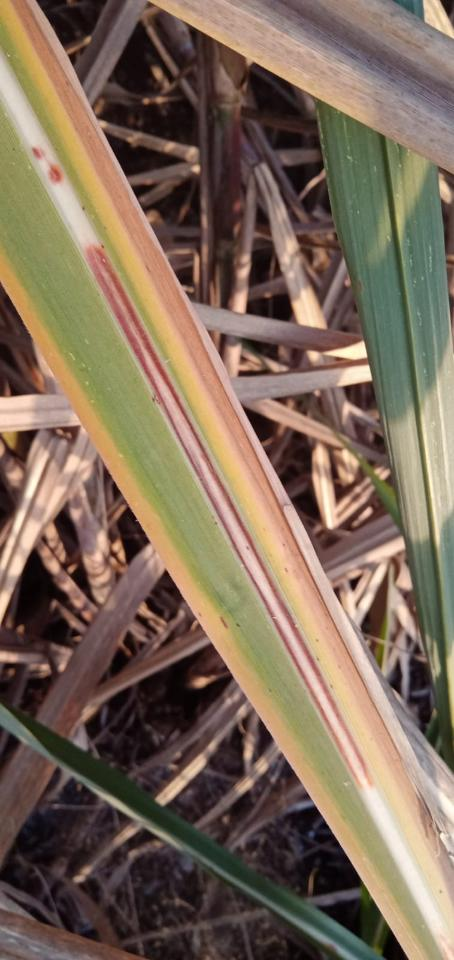RedRot: (85, 244, 375, 791), (29, 144, 63, 185)
